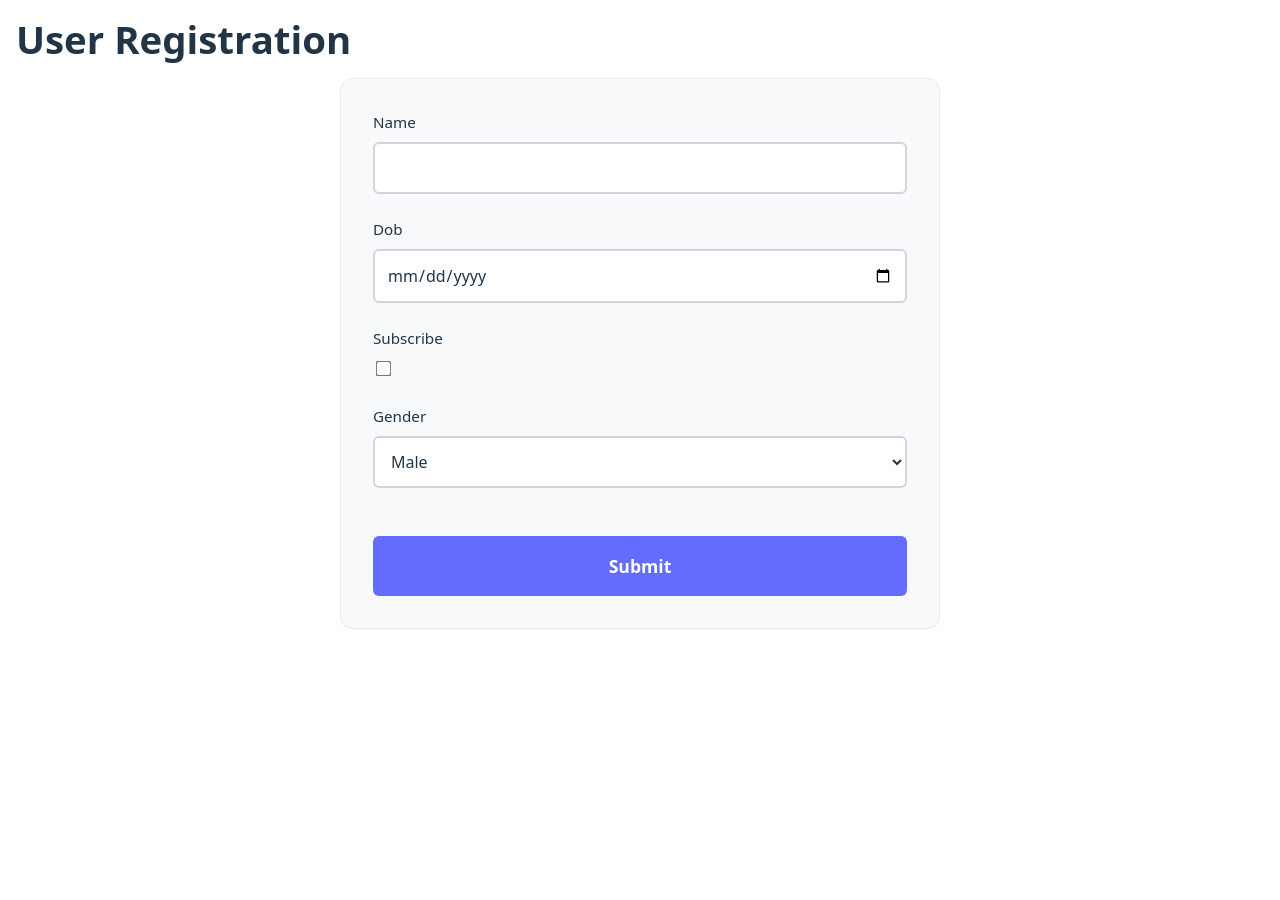
Test: DynamicForm › submits form data correctly when all fields are filled
Type "John Doe" into the field labelled "Name" at (640, 168), box left=373, top=142, right=907, bottom=194
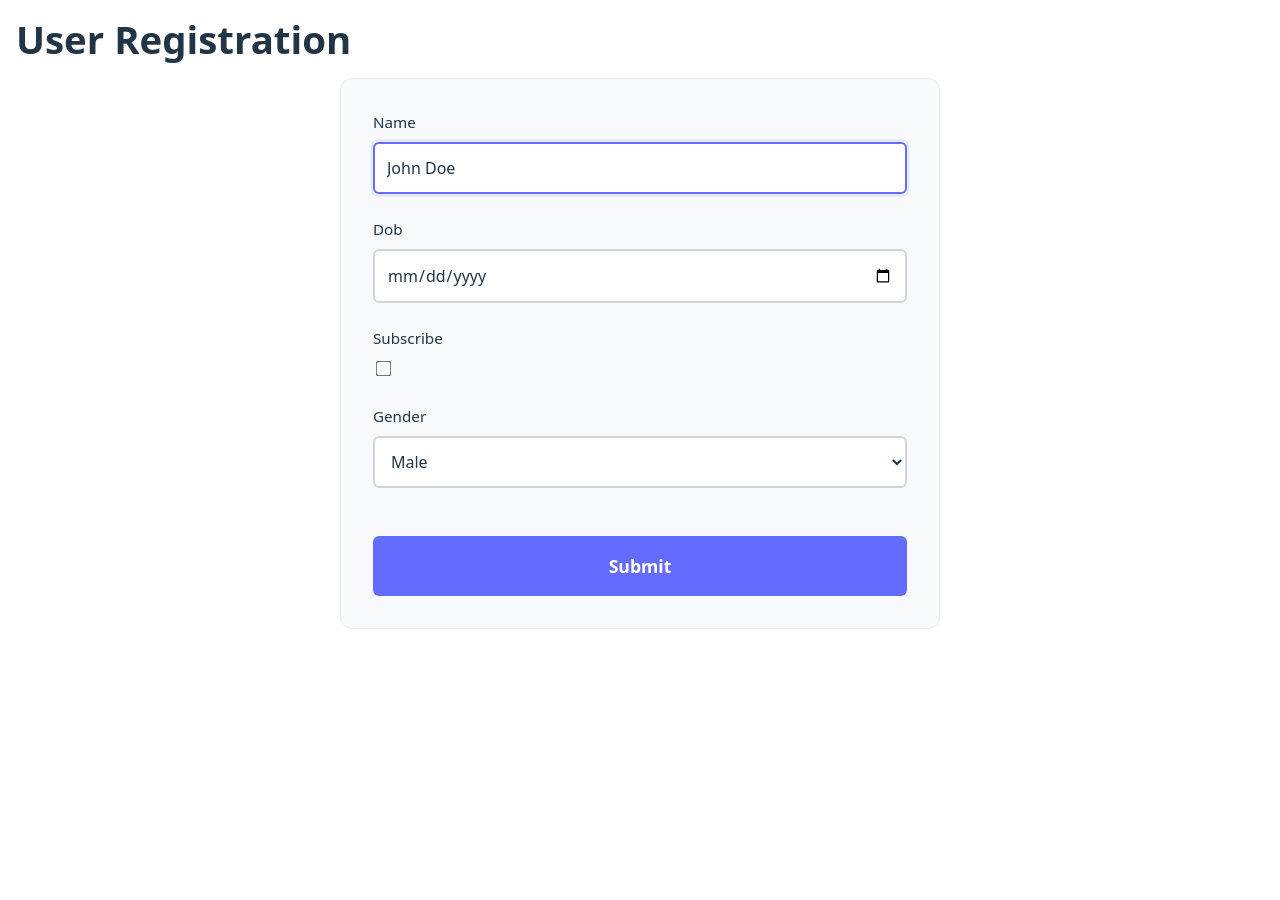
Type "1990-01-15" into the date field labelled "Dob" at (640, 276), box left=373, top=249, right=907, bottom=303
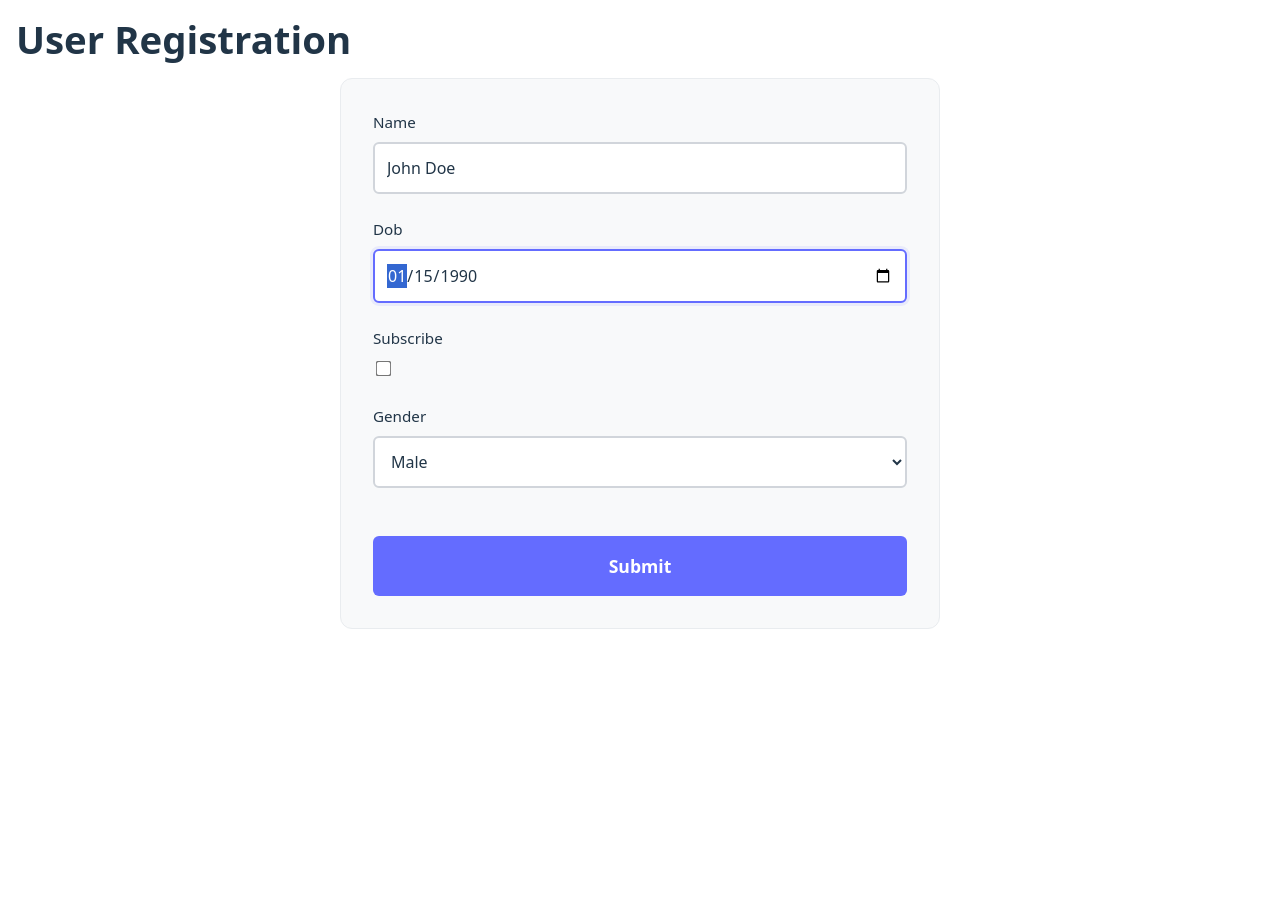
Click the checkbox labelled "Subscribe" at (384, 369), box left=376, top=361, right=391, bottom=377
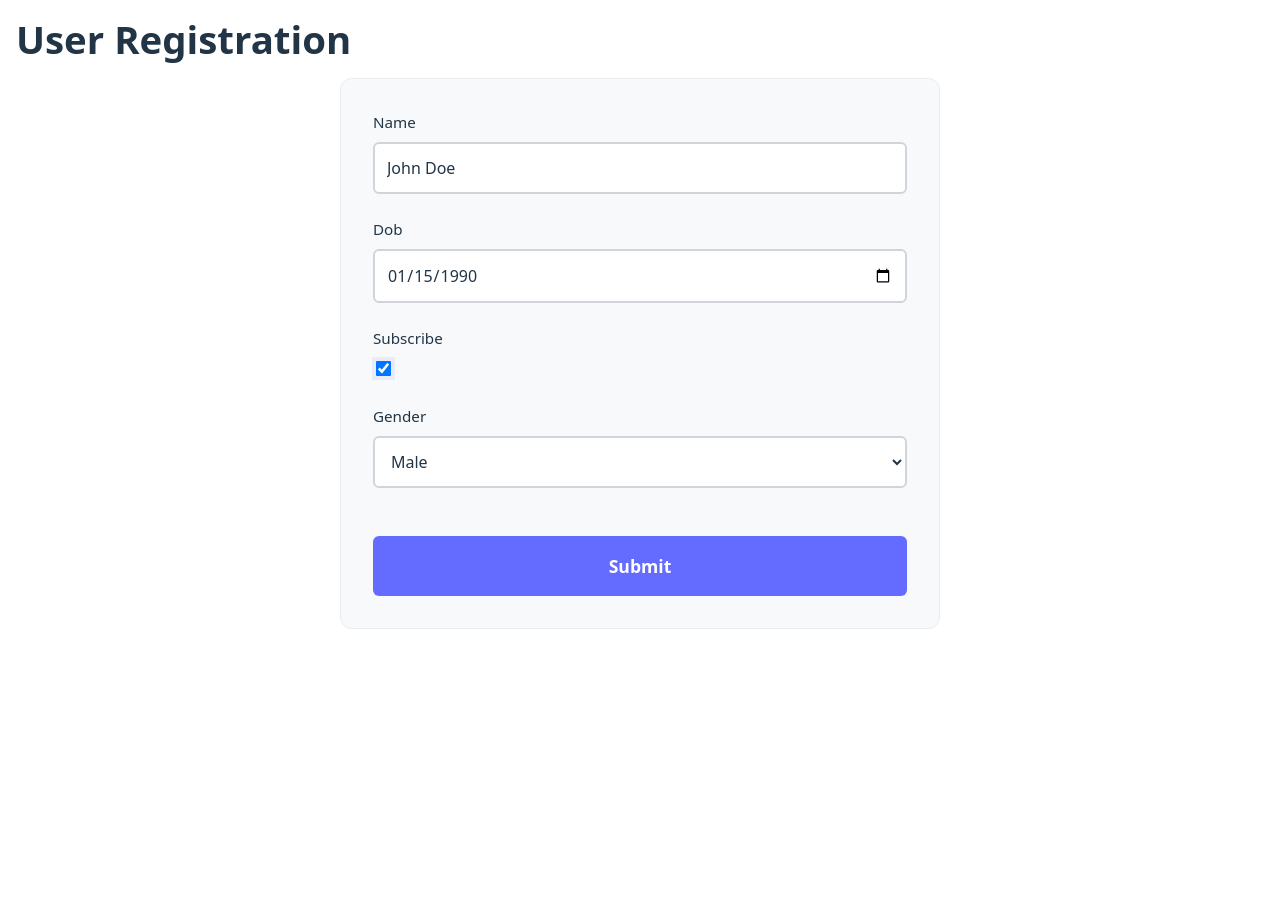
Select "Male" in the dropdown labelled "Gender" at (640, 462), box left=373, top=436, right=907, bottom=488
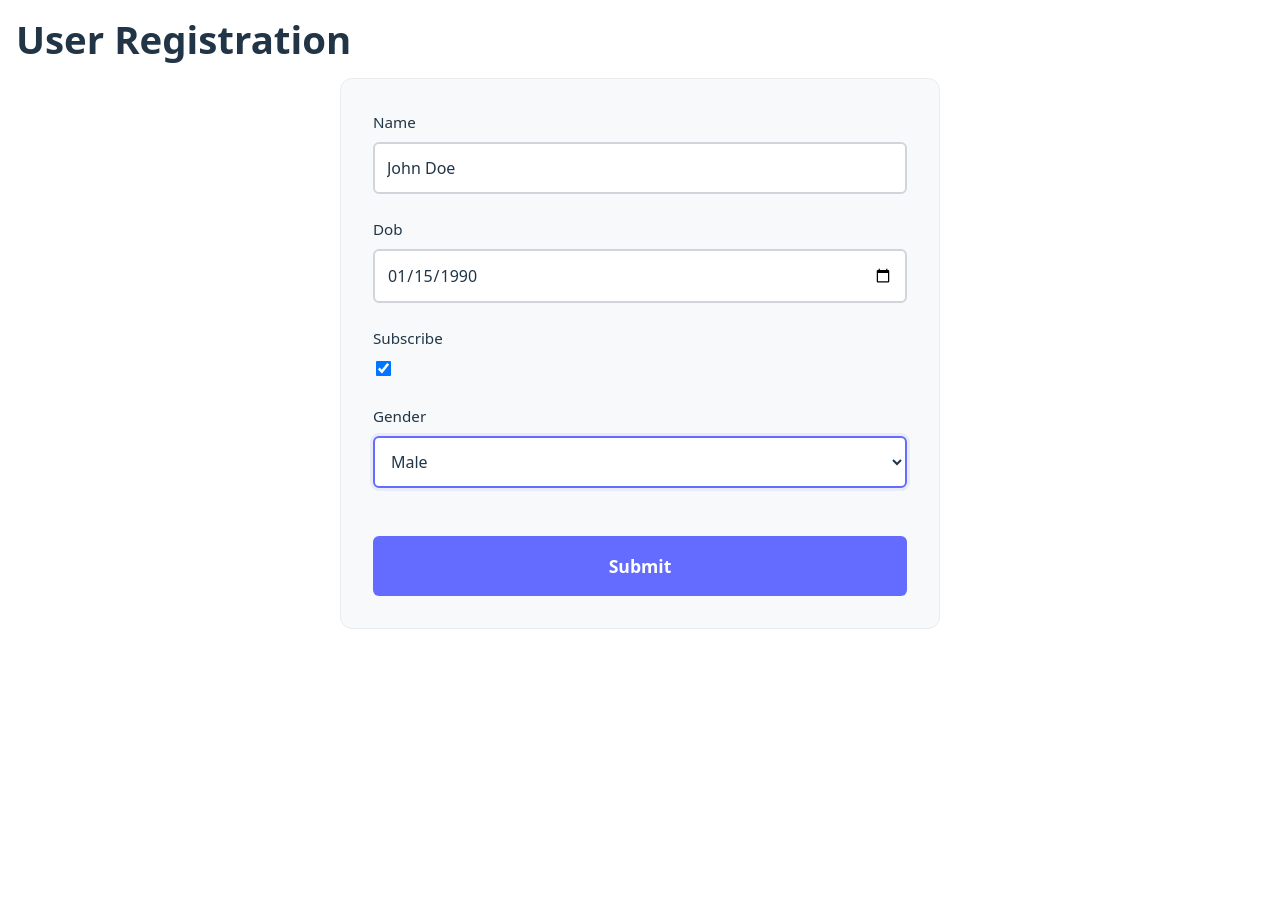
Click the button "Submit" at (640, 566), box left=373, top=536, right=907, bottom=596
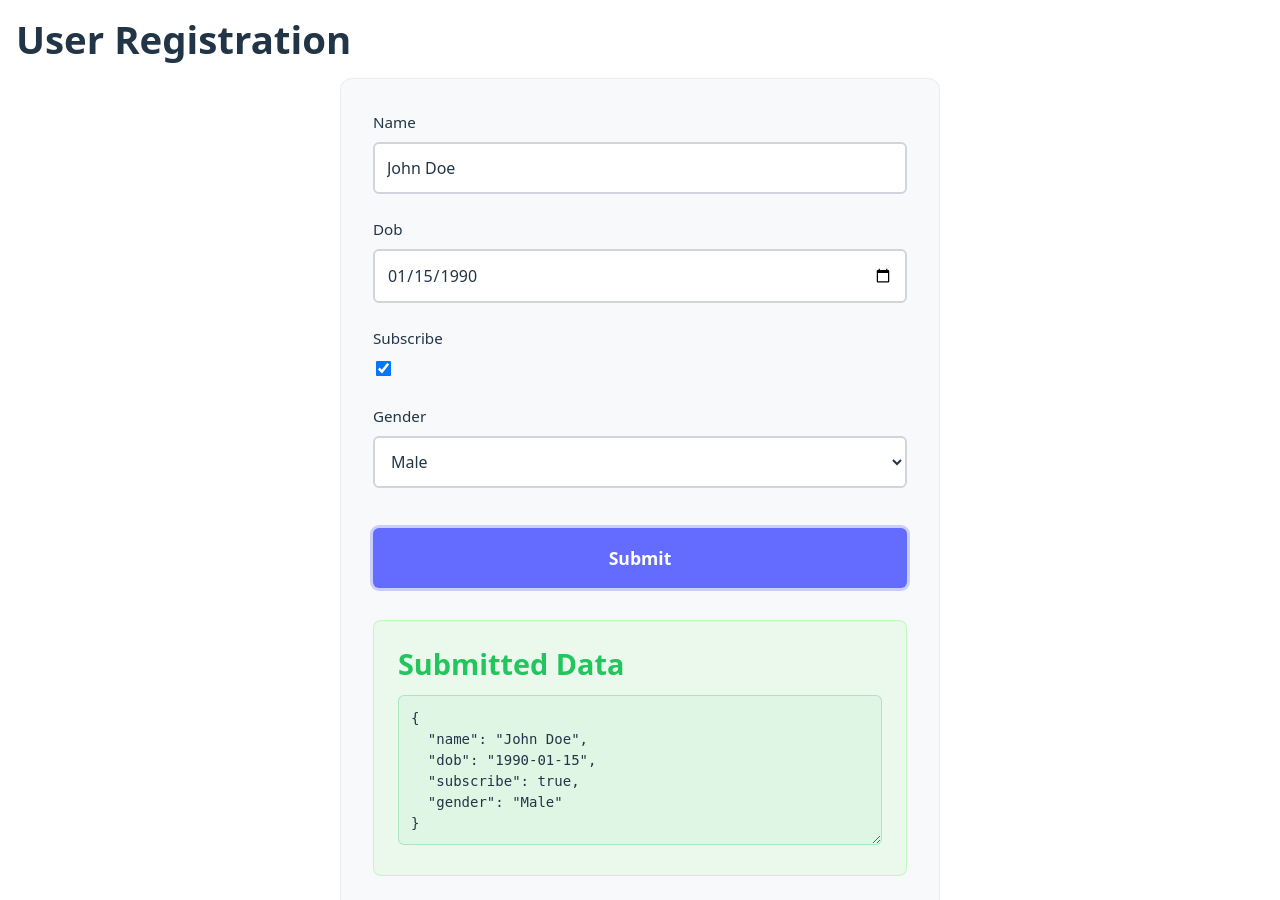
Result: the element with test id "submitted-data" is shown at left=373, top=620, right=907, bottom=876
Result: the text box showing "\"name\": \"John Doe\"" is shown at left=398, top=695, right=882, bottom=845
